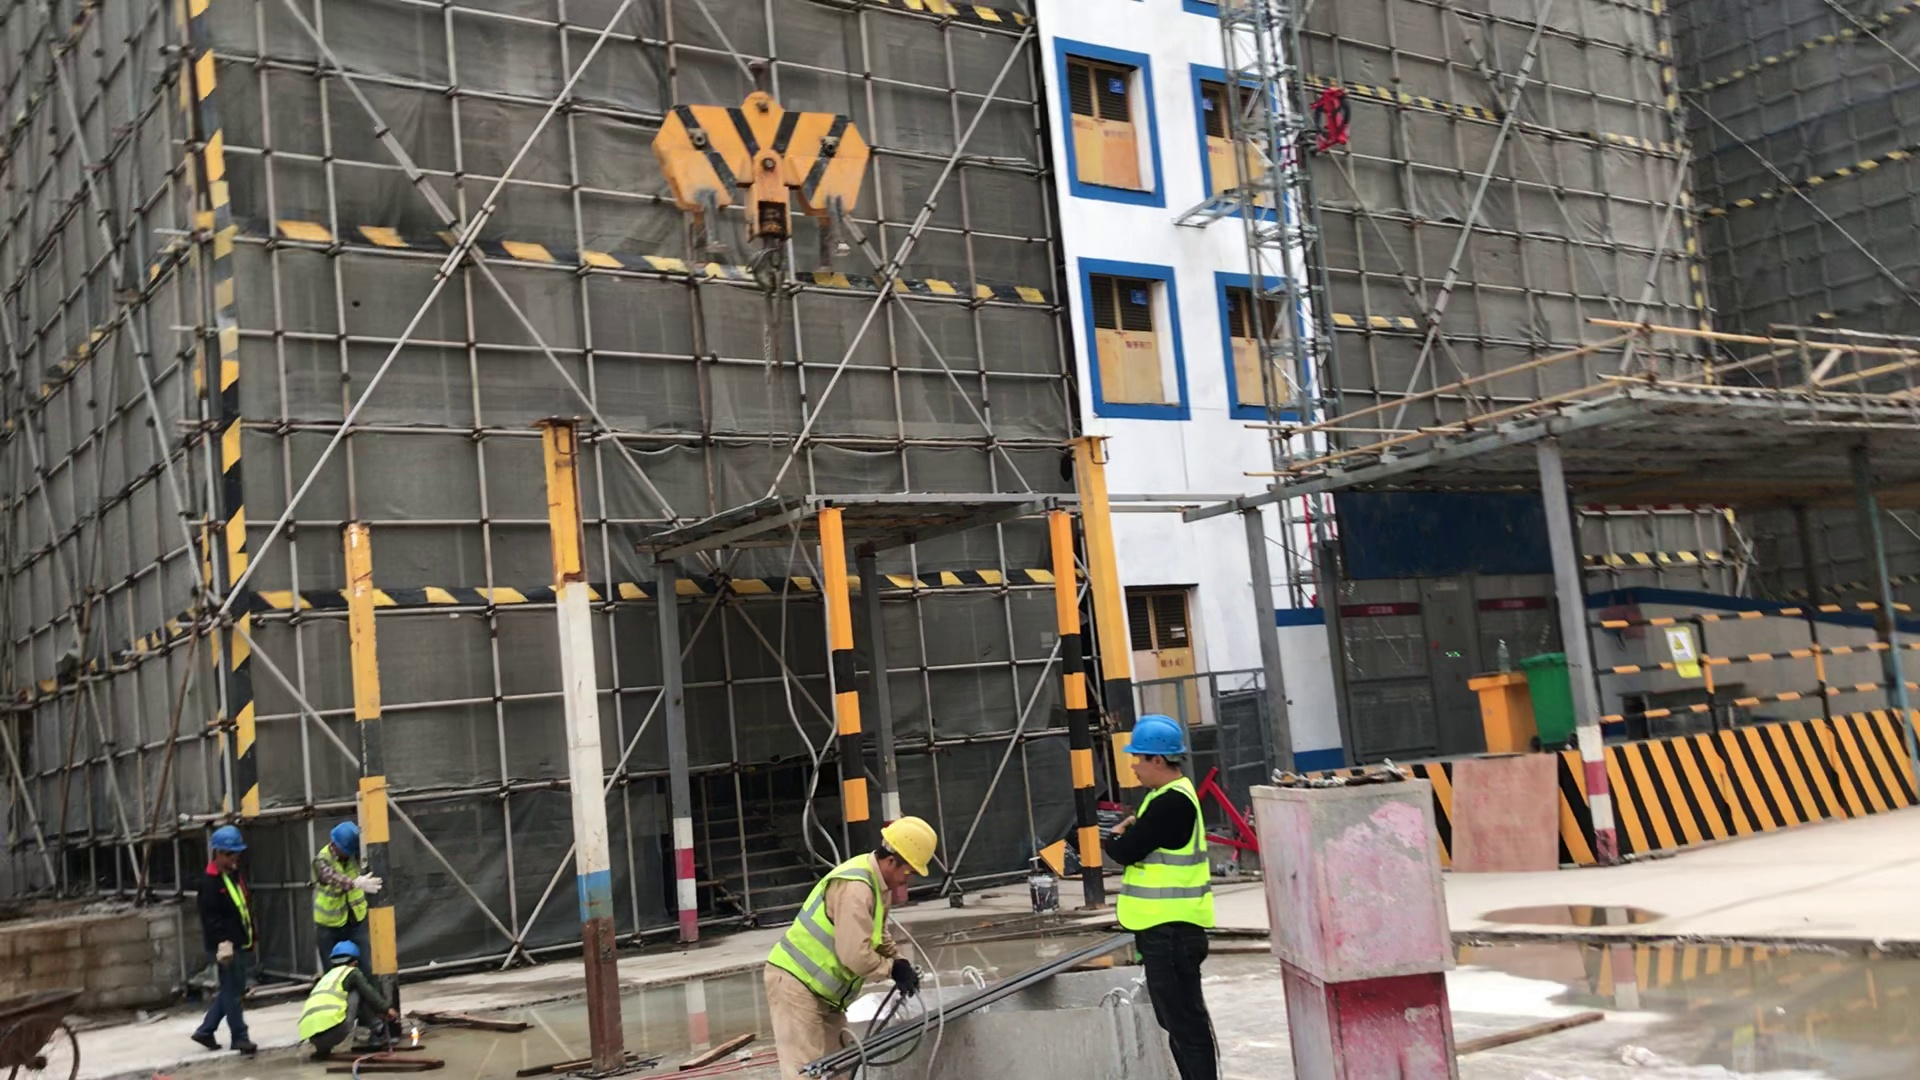helmet: (877, 813, 938, 882), (1117, 715, 1194, 759), (204, 820, 246, 852), (327, 819, 361, 853), (323, 936, 363, 963)
person: (765, 811, 939, 1080), (1102, 715, 1226, 1080), (194, 823, 266, 1066), (291, 940, 417, 1065), (312, 813, 382, 947)
vest: (1115, 775, 1223, 936), (294, 964, 362, 1046)
